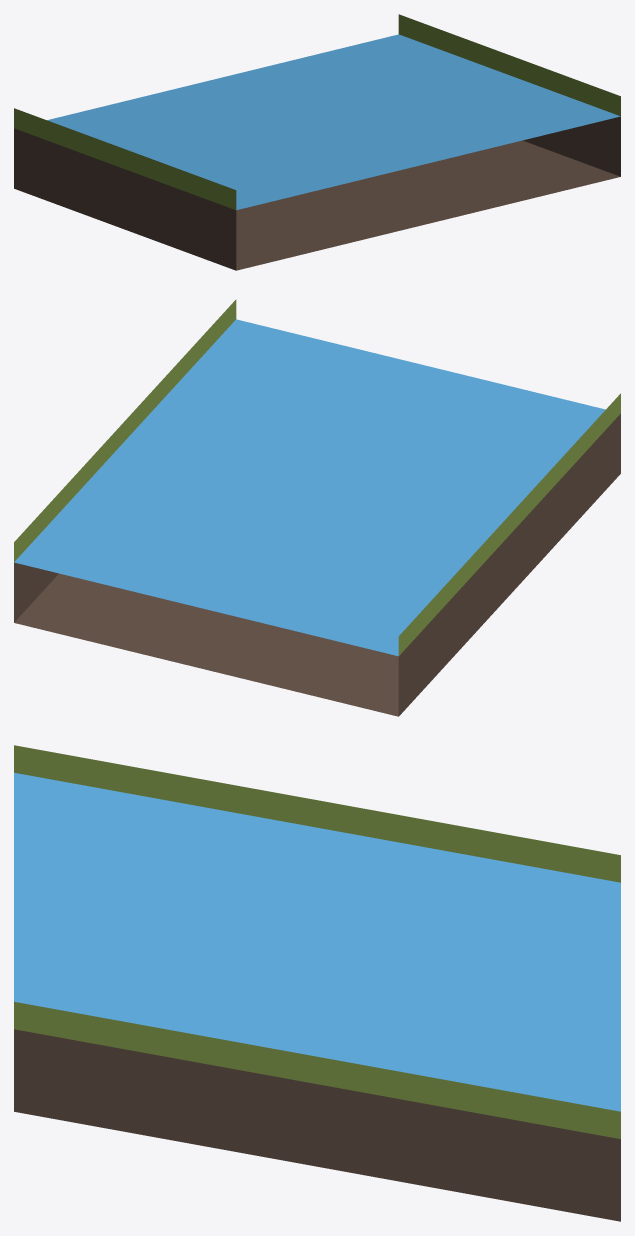
File: water-tile_02.fbx
3 renders of one model, top to bottom at view 1: azimuth 30°, elevation 25°; view 2: azimuth 150°, elevation 25°; view 3: azimuth 270°, elevation 25°, orthographic. The views are drawn at different scales.
Parts seen in each view (by area): view 1: water_02; view 2: water_02; view 3: water_02.
Boxes of the visible parts, box(x1,y1,x2,y2) form: water_02: box(14, 14, 620, 270); water_02: box(14, 299, 620, 716); water_02: box(14, 745, 620, 1221).
Size of the model in its own units: 1000 by 400 by 1000.
